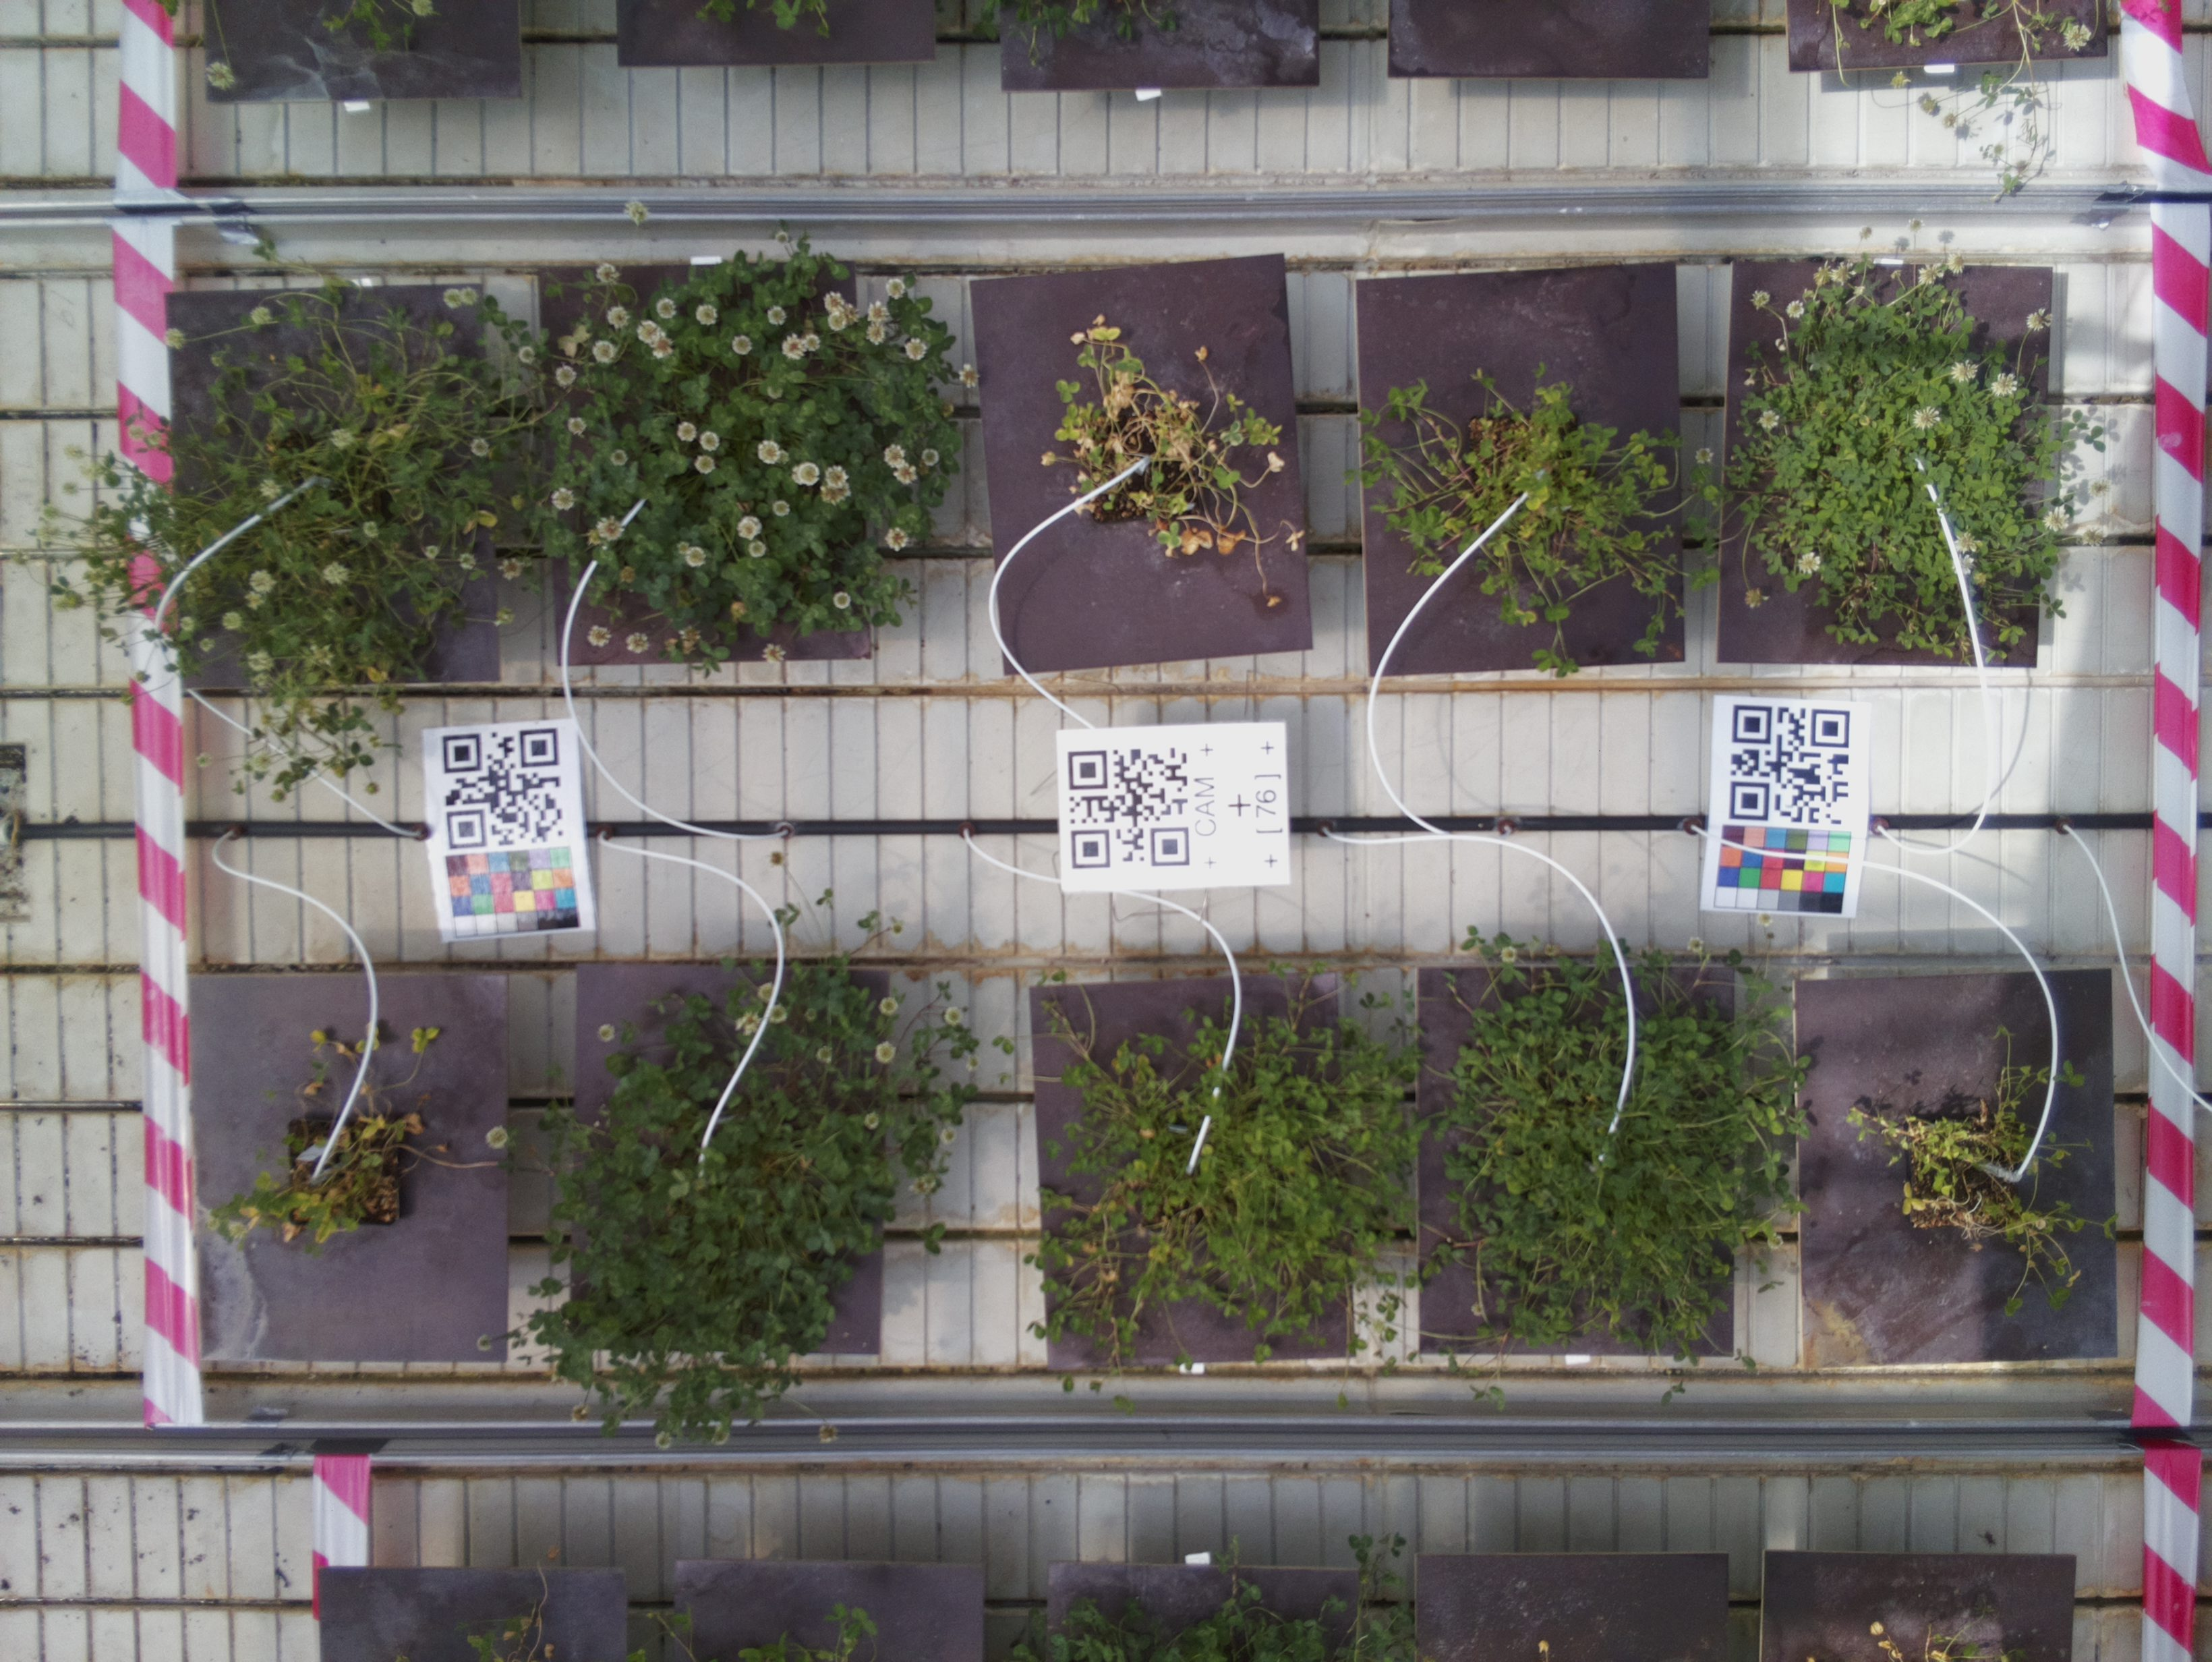POT: (541, 265, 882, 658), (1723, 269, 2062, 663), (166, 292, 501, 686), (1411, 967, 1735, 1362), (1355, 279, 1688, 663), (974, 281, 1313, 653), (183, 974, 510, 1358), (574, 964, 890, 1358), (1795, 978, 2118, 1358), (1032, 983, 1355, 1362)
QRCODE: (1053, 726, 1295, 890)
QRCOLOR: (421, 723, 599, 937), (1713, 697, 1870, 920)
